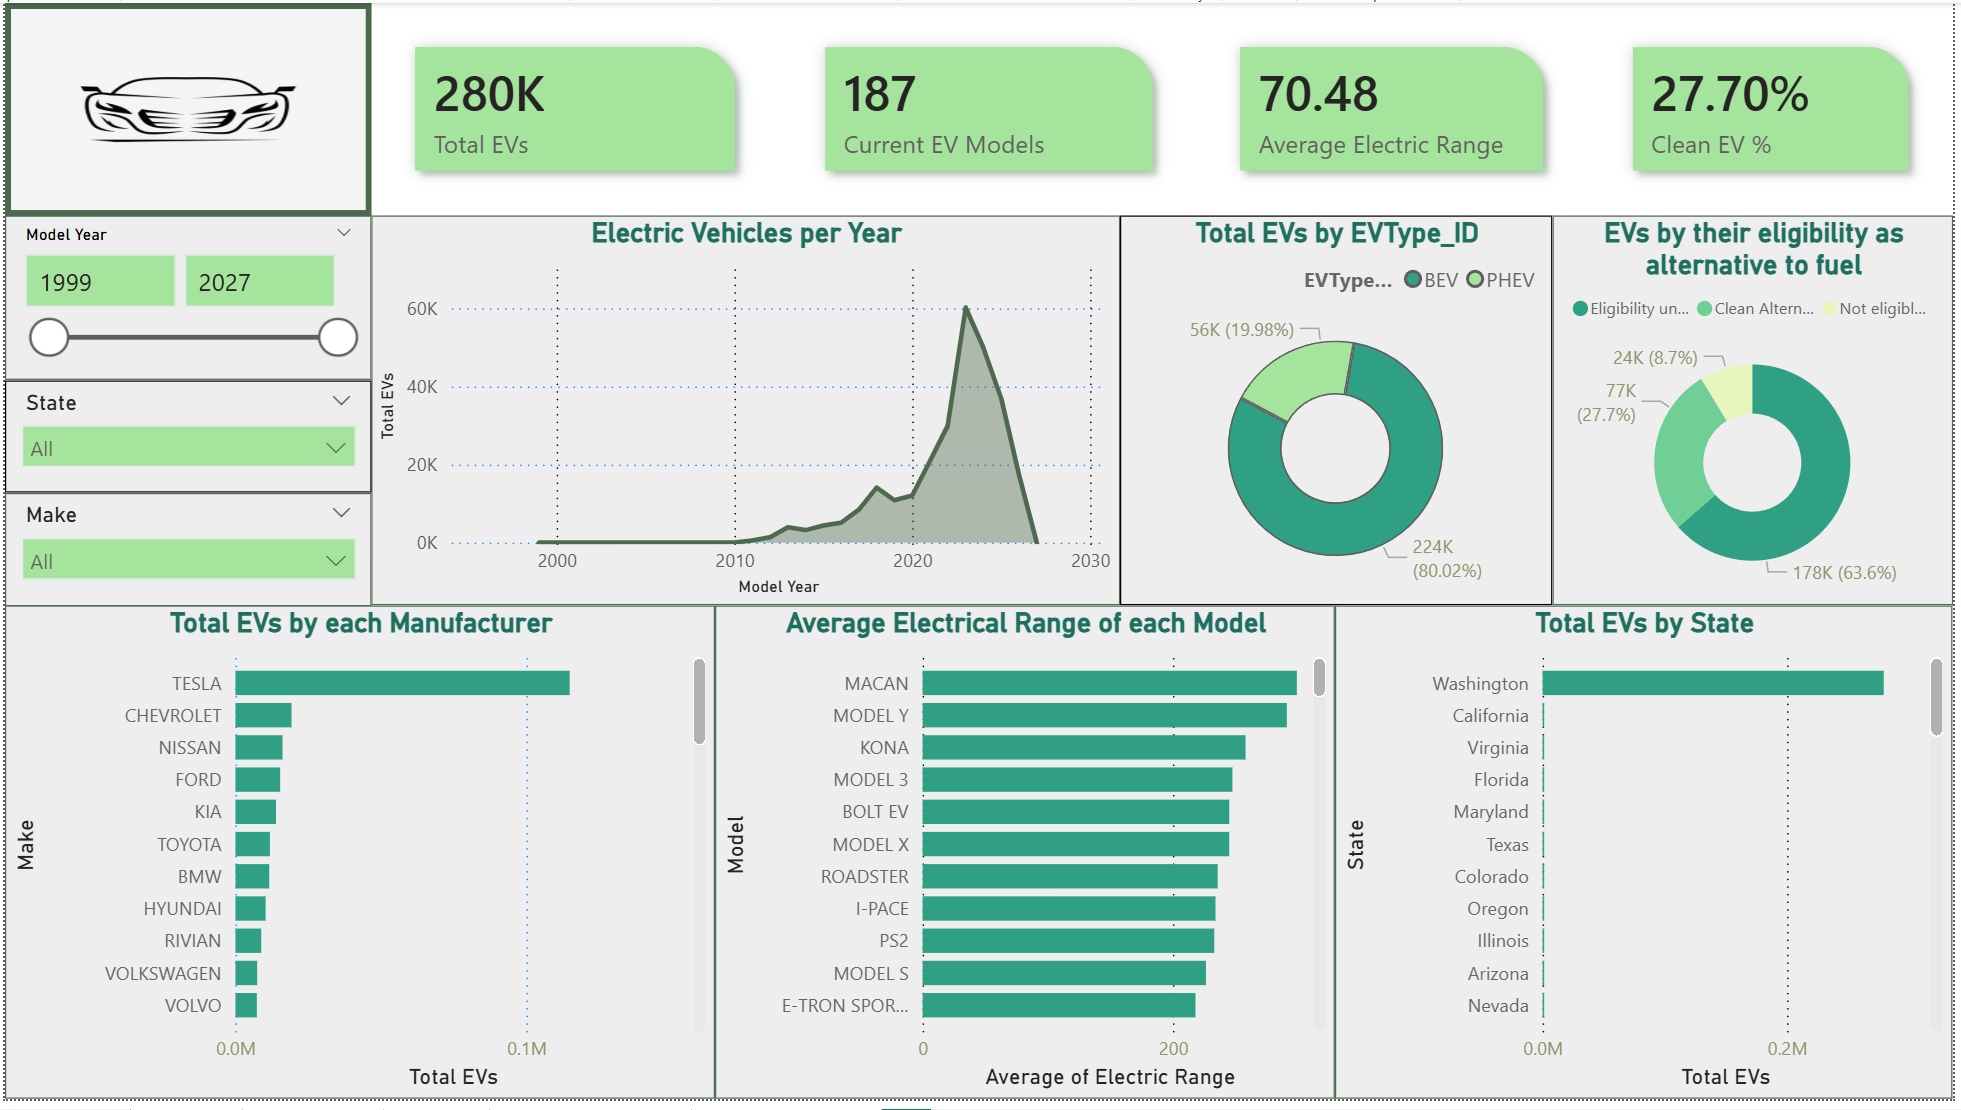

The page's visual inventory and layout, read from the dashboard file:
{"tool":"powerbi","page":{"name":"Duplicate of Overview","canvas":[1280,720],"ordinal":3},"visuals":[{"type":"cardVisual","fields":{"Data":["EV_Fact.Total EVs"]},"box":[240.9,0,268.7,139.7],"z":0},{"type":"cardVisual","fields":{"Data":["Vehicle_Dim.Total EV Models"]},"box":[509.6,0,273.1,139.7],"z":1000},{"type":"lineChart","title":"Electric Vehicles per Year","fields":{"Category":["Vehicle_Dim.Model Year"],"Y":["EV_Fact.Total EVs"]},"box":[240.9,139.7,491.6,256.1],"z":2000},{"type":"clusteredBarChart","title":"Average Electrical Range of each Model","fields":{"Category":["Vehicle_Dim.Model"],"Y":["Avg(Vehicle_Dim.Electric Range)"]},"box":[466.6,395.8,407.5,324.2],"z":3000},{"type":"clusteredBarChart","title":"Total EVs by each Manufacturer","fields":{"Category":["Vehicle_Dim.Make"],"Y":["EV_Fact.Total EVs"]},"box":[0,395.8,466.6,324.2],"z":4000},{"type":"donutChart","fields":{"Y":["EV_Fact.Total EVs"],"Series":["Type_Dim.EVType_ID"]},"box":[732.5,139.7,283.9,256.1],"z":5000},{"type":"clusteredBarChart","fields":{"Category":["State_Dim.State"],"Y":["EV_Fact.Total EVs"]},"box":[874,395.8,405.7,324.2],"z":6000},{"type":"slicer","fields":{"Values":["State_Dim.State"]},"box":[0,248.1,240.9,73.4],"z":7000},{"type":"slicer","title":"Manufacturer","fields":{"Values":["Vehicle_Dim.Make"]},"box":[0,321.5,240.9,74.3],"z":8000},{"type":"slicer","title":"Year","fields":{"Values":["Vehicle_Dim.Model Year"]},"box":[0,139.7,240.9,108.4],"z":9000},{"type":"image","box":[0,0,240.9,139.7],"z":10000},{"type":"donutChart","title":"EVs by their eligibility as alternative to fuel","fields":{"Category":["Eligibility_Dim.Clean Alternative Fuel Vehicle (CAFV) Eligibility"],"Y":["EV_Fact.Total EVs"]},"box":[1016.4,139.7,263.3,256.1],"z":11000},{"type":"cardVisual","fields":{"Data":["Vehicle_Dim.Average Electric Range"]},"box":[782.7,0,257.9,139.7],"z":12000},{"type":"cardVisual","fields":{"Data":["Eligibility_Dim.Clean EV %"]},"box":[1040.6,0,239.1,139.7],"z":13000}]}

Visuals, with their boxes in screenshot pixels (x1, y1, x2, y2), scaled from the page's 1280x720 canvas onto the 1961x1110 screenshot:
cardVisual - EV_Fact.Total EVs: {"left": 369, "top": 0, "right": 781, "bottom": 215}
cardVisual - Vehicle_Dim.Total EV Models: {"left": 781, "top": 0, "right": 1199, "bottom": 215}
"Electric Vehicles per Year" lineChart: {"left": 369, "top": 215, "right": 1122, "bottom": 610}
"Average Electrical Range of each Model" clusteredBarChart: {"left": 715, "top": 610, "right": 1339, "bottom": 1109}
"Total EVs by each Manufacturer" clusteredBarChart: {"left": 0, "top": 610, "right": 715, "bottom": 1109}
donutChart - EV_Fact.Total EVs x Type_Dim.EVType_ID: {"left": 1122, "top": 215, "right": 1557, "bottom": 610}
clusteredBarChart - State_Dim.State x EV_Fact.Total EVs: {"left": 1339, "top": 610, "right": 1960, "bottom": 1109}
slicer - State_Dim.State: {"left": 0, "top": 382, "right": 369, "bottom": 496}
"Manufacturer" slicer: {"left": 0, "top": 496, "right": 369, "bottom": 610}
"Year" slicer: {"left": 0, "top": 215, "right": 369, "bottom": 382}
image: {"left": 0, "top": 0, "right": 369, "bottom": 215}
"EVs by their eligibility as alternative to fuel" donutChart: {"left": 1557, "top": 215, "right": 1960, "bottom": 610}
cardVisual - Vehicle_Dim.Average Electric Range: {"left": 1199, "top": 0, "right": 1594, "bottom": 215}
cardVisual - Eligibility_Dim.Clean EV %: {"left": 1594, "top": 0, "right": 1960, "bottom": 215}
